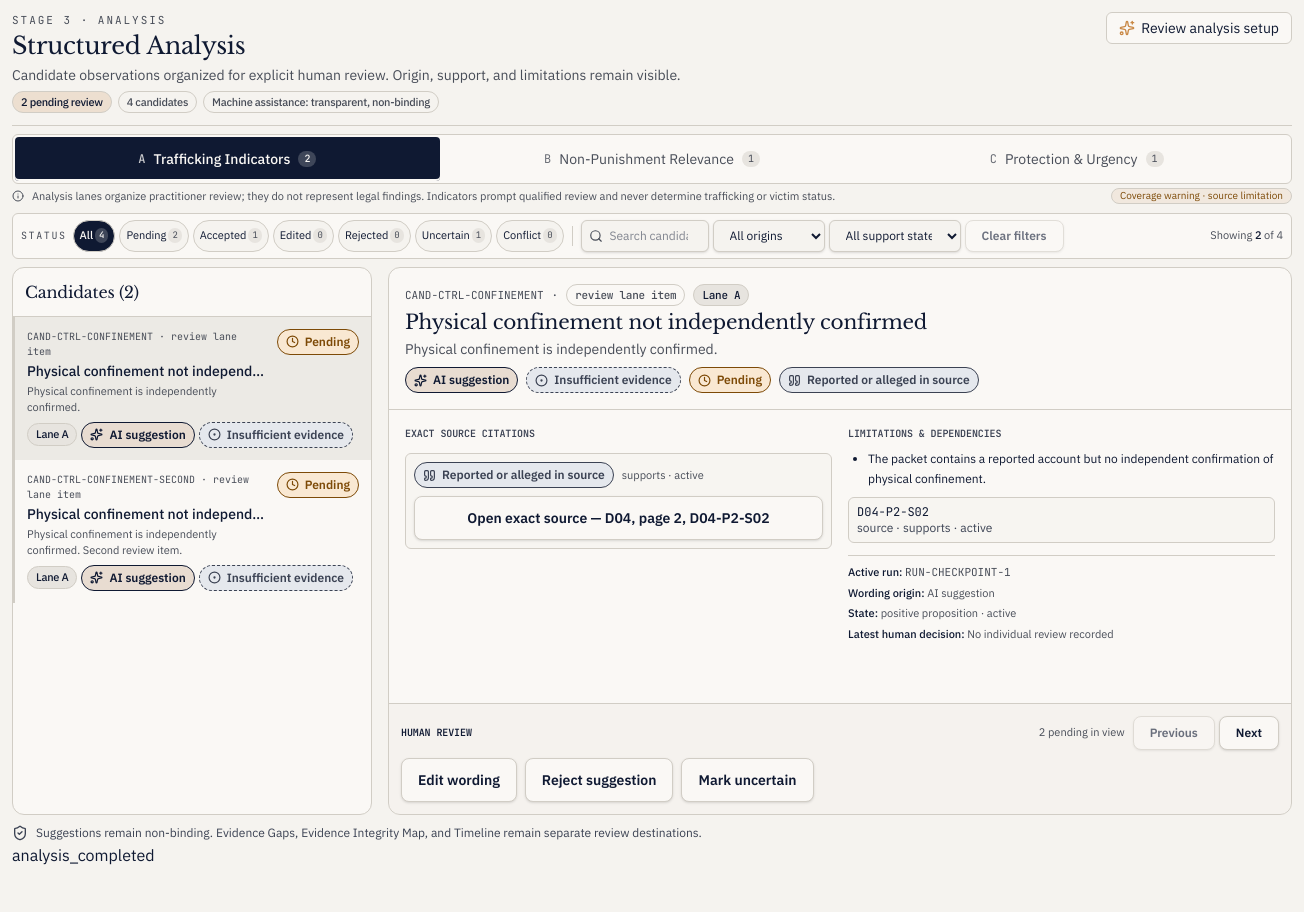
Scenario: Phase 3 Structured Analysis › navigates the visible pending queue without recording a review action
Click the button with aria-label "Select candidate CAND-CTRL-CONFINEMENT: Physical confinement": (192, 388) [13,316,371,460]
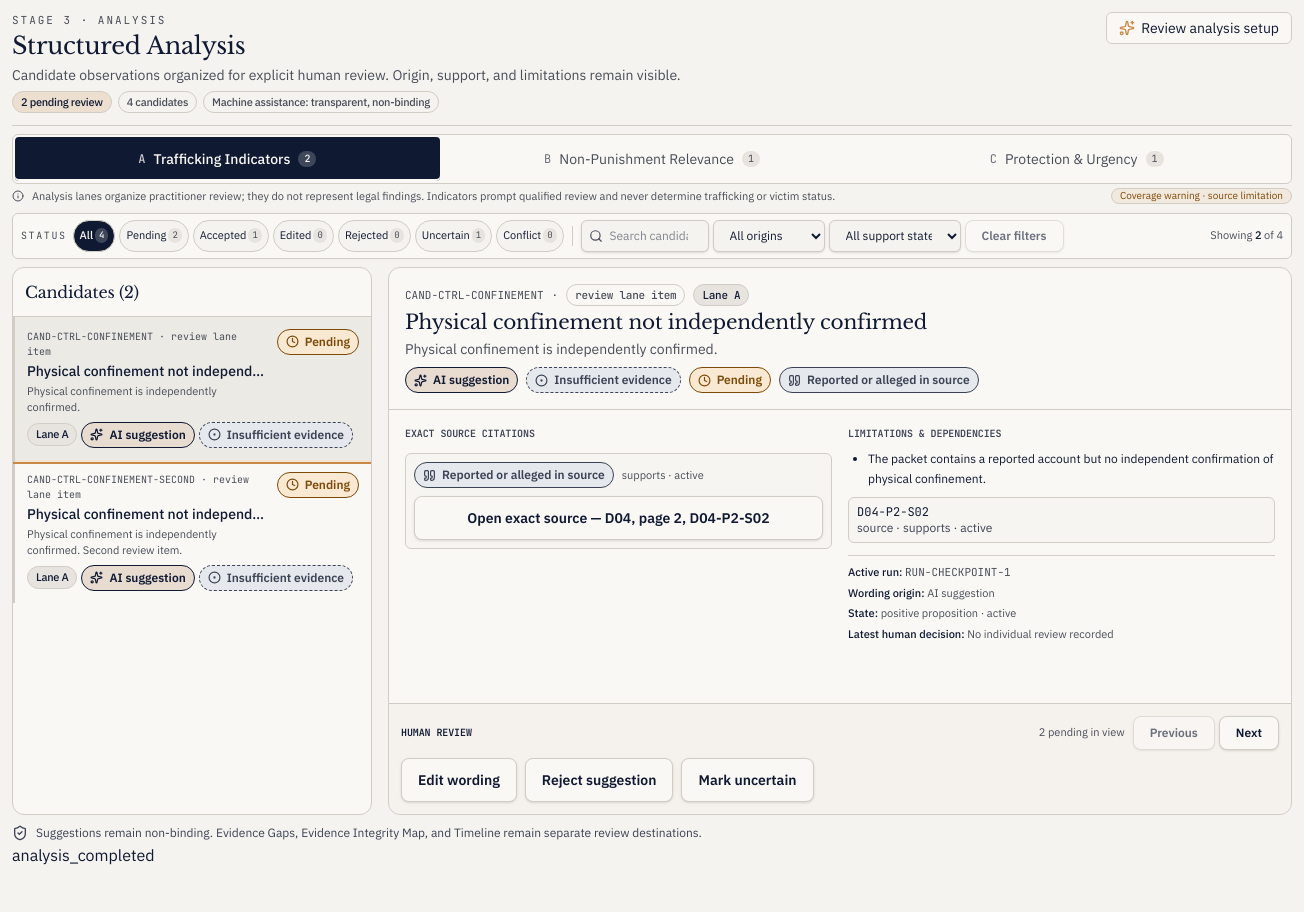
Click the button with aria-label "Next pending candidate": (1249, 732) [1219,716,1279,750]
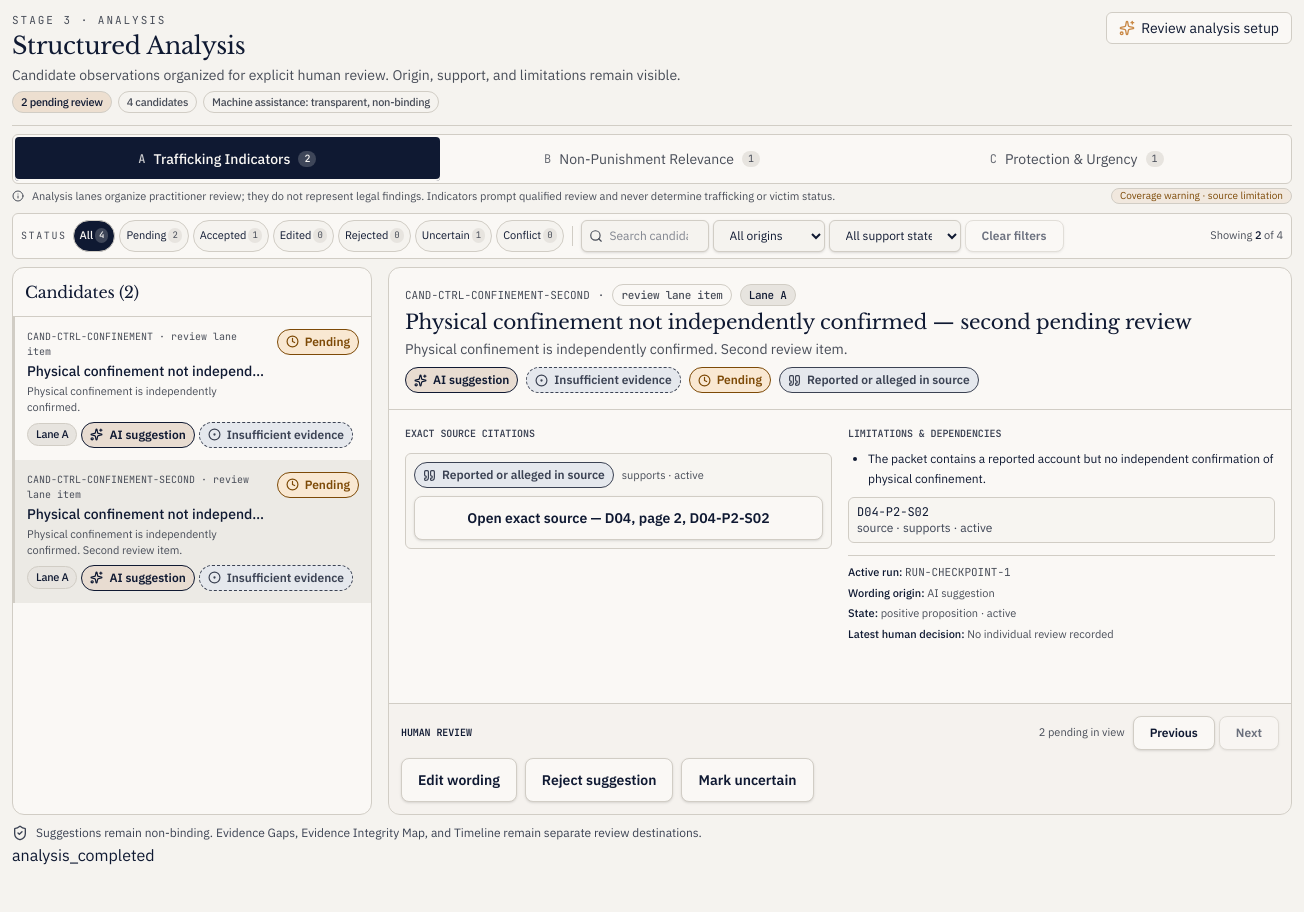
Expected: the text with test id "analysis-last-audit" reads "analysis_completed", [12,844,154,864]
Now the button with aria-label "Previous pending candidate" is enabled, box [1133,716,1215,750]
